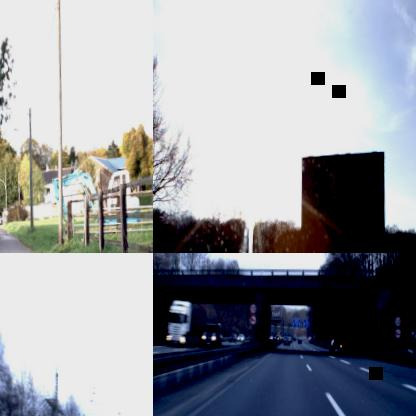no overtaking: (393, 327, 402, 339), (249, 314, 256, 326)
speed limit 120: (248, 302, 256, 314), (394, 314, 402, 326)
